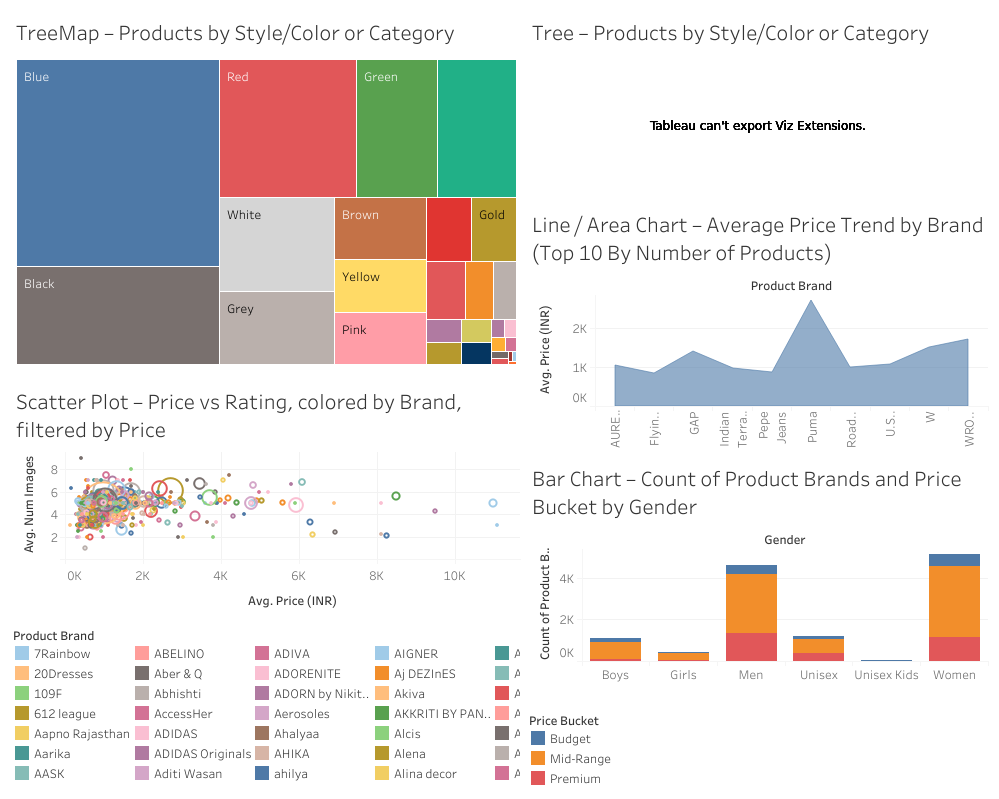

Layout of this report page (visuals, bound fields, positions):
{"tool":"tableau","page":{"name":"Fashion Retail Insights Dashboard","canvas":[1000,800],"ordinal":0},"visuals":[{"type":"worksheet","title":"TreeMap – Products by Style/Color or Category","mark":"Automatic","box":[8,8,516,369]},{"type":"worksheet","title":"Tree – Products by Style/Color or Category","box":[524,8,468,192]},{"type":"worksheet","title":"Line / Area Chart – Average Price Trend by Brand (Top 10 By Number of Products)","mark":"Area","rows":["Price (INR)"],"cols":["ProductBrand"],"box":[524,200,468,254]},{"type":"worksheet","title":"Scatter Plot – Price vs Rating, colored by Brand, filtered by Price","mark":"Automatic","rows":["NumImages"],"cols":["Price (INR)"],"box":[8,377,516,243]},{"type":"worksheet","title":"Bar Chart – Count of Product Brands and Price Bucket by Gender","mark":"Bar","rows":["ProductBrand"],"cols":["Gender"],"box":[524,454,468,251]},{"type":"legend","title":"Scatter Plot – Price vs Rating, colored by Brand, filtered by Price","param":"[federated.0q54ty80v6ne5f16n8jia0ayli4f].[none:ProductBrand:nk]","box":[8,620,516,172]},{"type":"legend","title":"Bar Chart – Count of Product Brands and Price Bucket by Gender","param":"[federated.0q54ty80v6ne5f16n8jia0ayli4f].[none:Calculation_0014217548181575:nk]","box":[524,705,468,87]}]}

Visuals, with their boxes in screenshot pixels (x1, y1, x2, y2), scaled from the page's 1000x800 canvas onto the 999x799 screenshot:
"TreeMap – Products by Style/Color or Category" worksheet: left=8, top=8, right=523, bottom=377
"Tree – Products by Style/Color or Category" worksheet: left=523, top=8, right=991, bottom=200
"Line / Area Chart – Average Price Trend by Brand (Top 10 By Number of Products)" worksheet (Area marks): left=523, top=200, right=991, bottom=453
"Scatter Plot – Price vs Rating, colored by Brand, filtered by Price" worksheet: left=8, top=377, right=523, bottom=619
"Bar Chart – Count of Product Brands and Price Bucket by Gender" worksheet (Bar marks): left=523, top=453, right=991, bottom=704
"Scatter Plot – Price vs Rating, colored by Brand, filtered by Price" legend: left=8, top=619, right=523, bottom=791
"Bar Chart – Count of Product Brands and Price Bucket by Gender" legend: left=523, top=704, right=991, bottom=791
